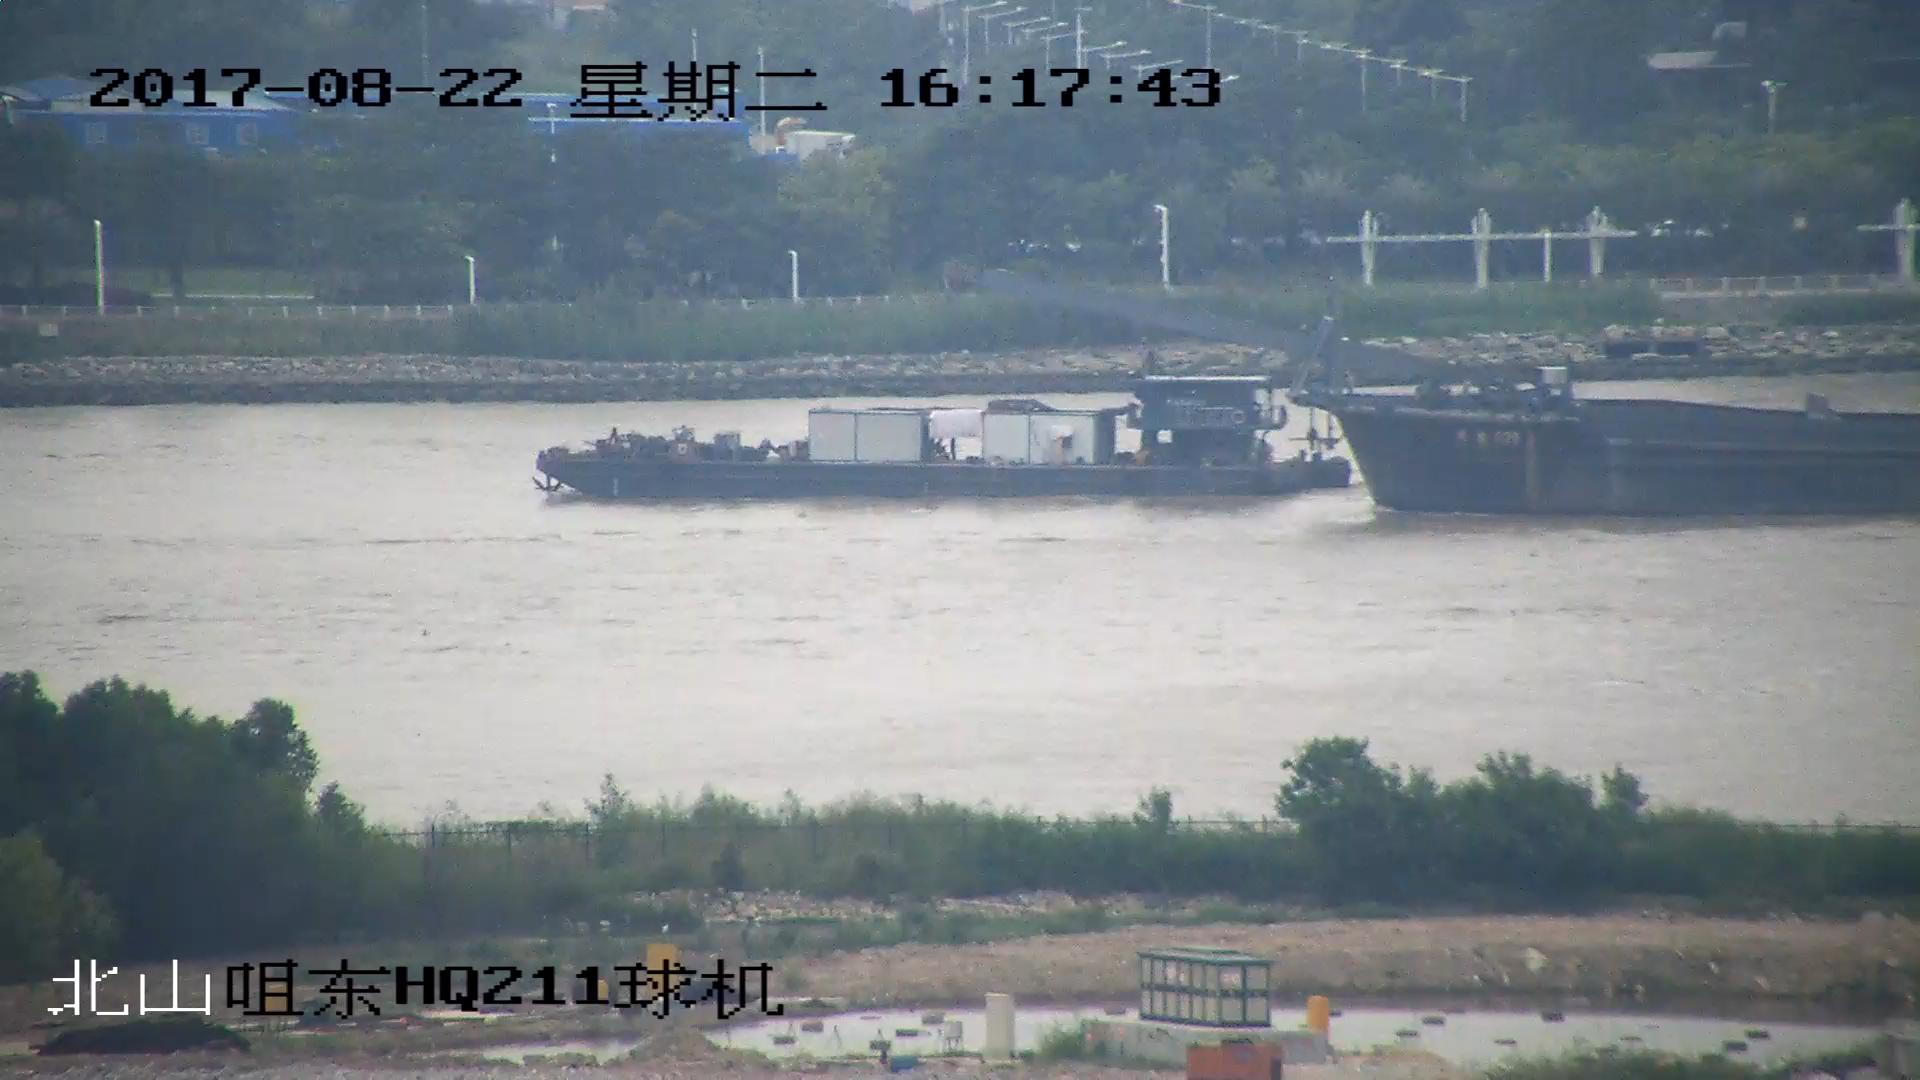bulk cargo carrier: (959, 259, 1920, 522), (535, 359, 1350, 505)
